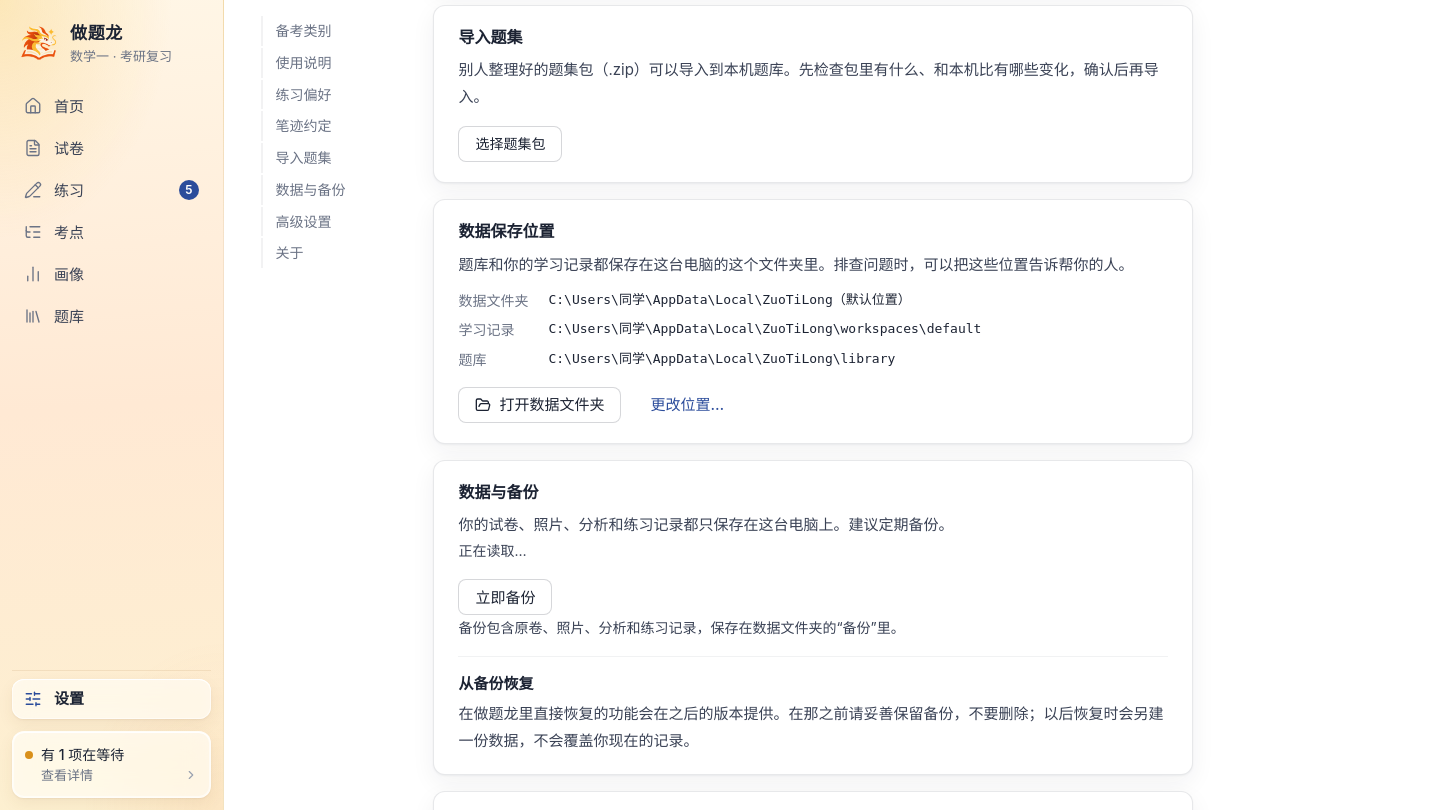
Scenario: shows the shell busy answer when it disagrees with the page
The width and height of the screenshot is (1440, 810).
(page scrolled)
Click the button "更改位置…" at [687, 405], box [634,387,741,423]
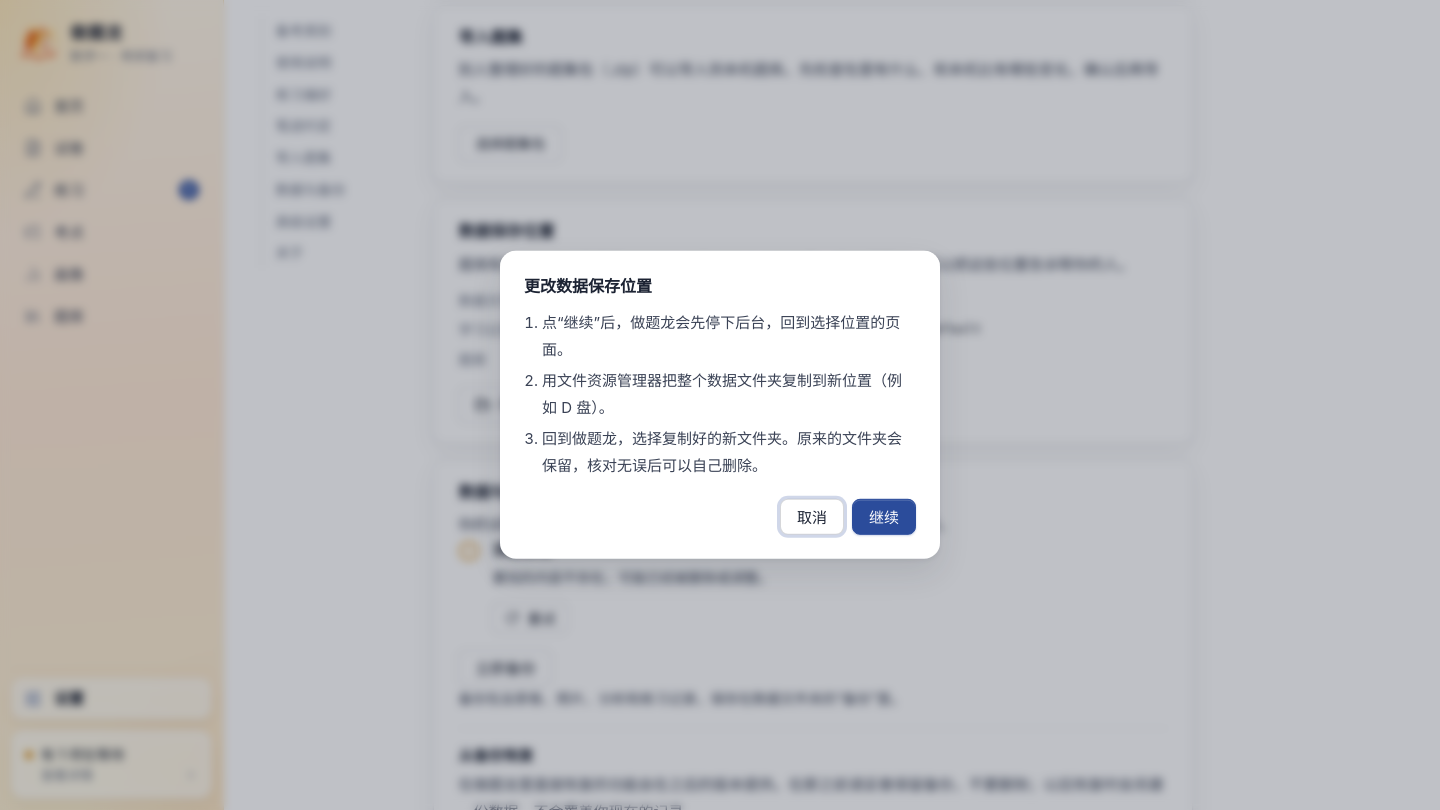
Click the button "继续" at [884, 517], box [852,499,916,535]
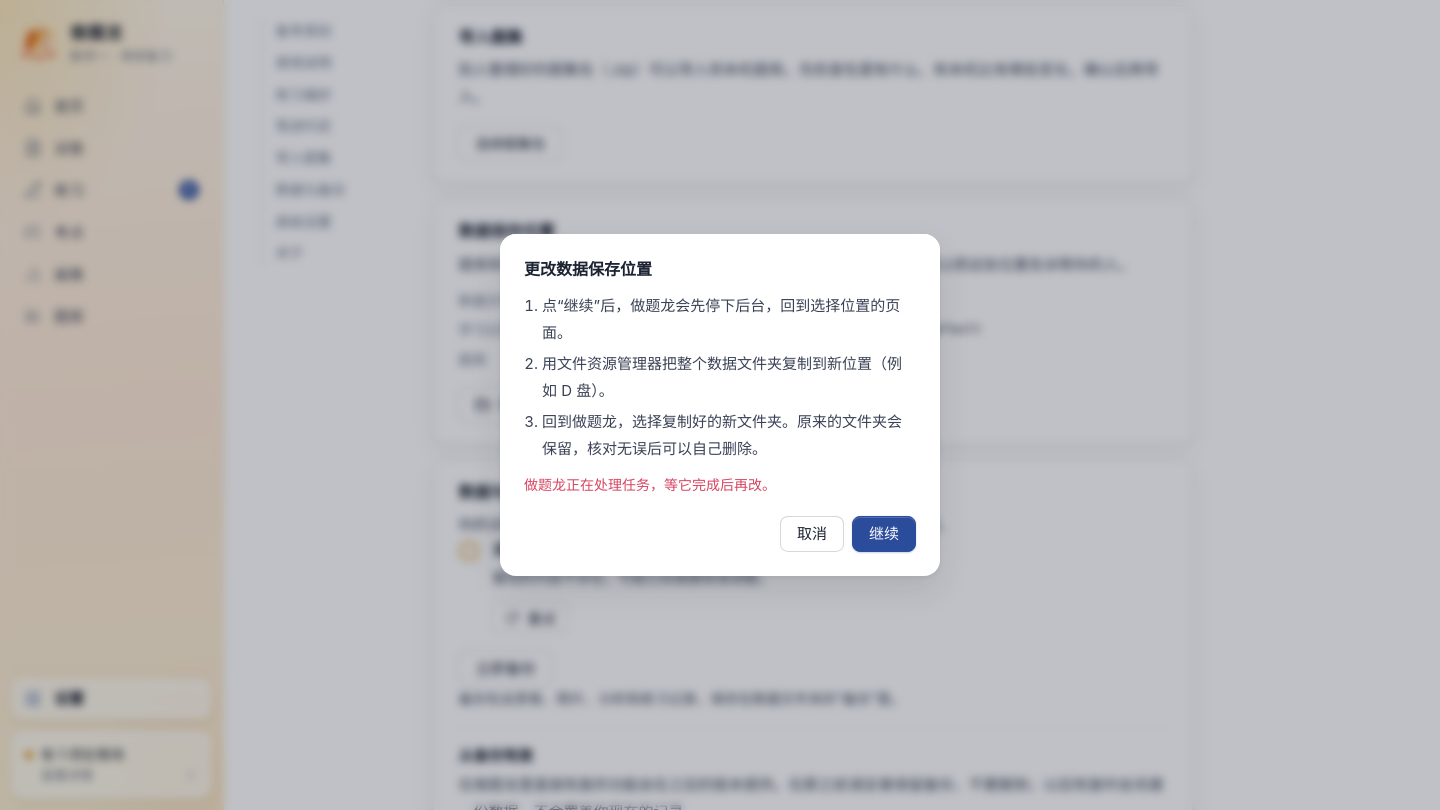
Now the text "做题龙正在处理任务，等它完成后再改。" is shown, box [524,476,776,493]
